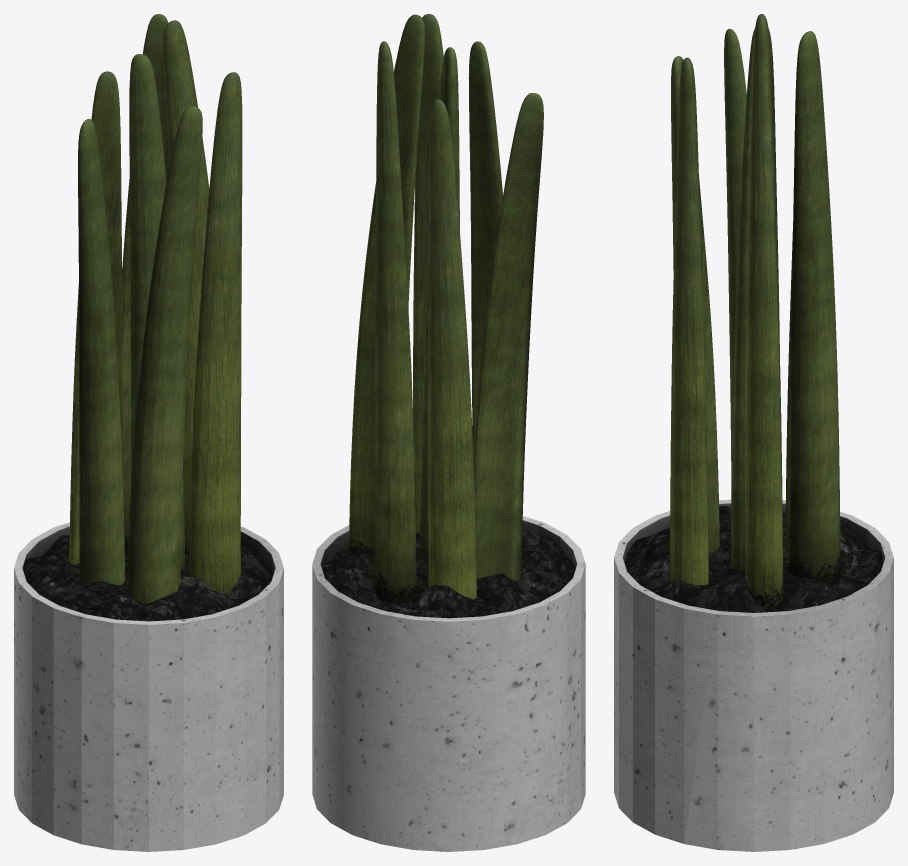
File: sans_op_col_exp_sel_4.DAE
3 views of the same model, side by side, from view 1: azimuth 30°, elevation 25°; view 2: azimuth 150°, elevation 25°; view 3: azimuth 270°, elevation 25° (orthographic). The views are drawn at different scales.
Parts seen in each view (by area): view 1: Sansewieria; view 2: Sansewieria; view 3: Sansewieria.
Part boxes in pixels (bbox=[...]): Sansewieria: bbox=[14, 14, 283, 851]; Sansewieria: bbox=[312, 14, 585, 851]; Sansewieria: bbox=[614, 14, 893, 851].
Bounding box in the file's own units: 0.1391 × 0.1391 × 0.4348.
Materials: 1 (1 with a texture image).
